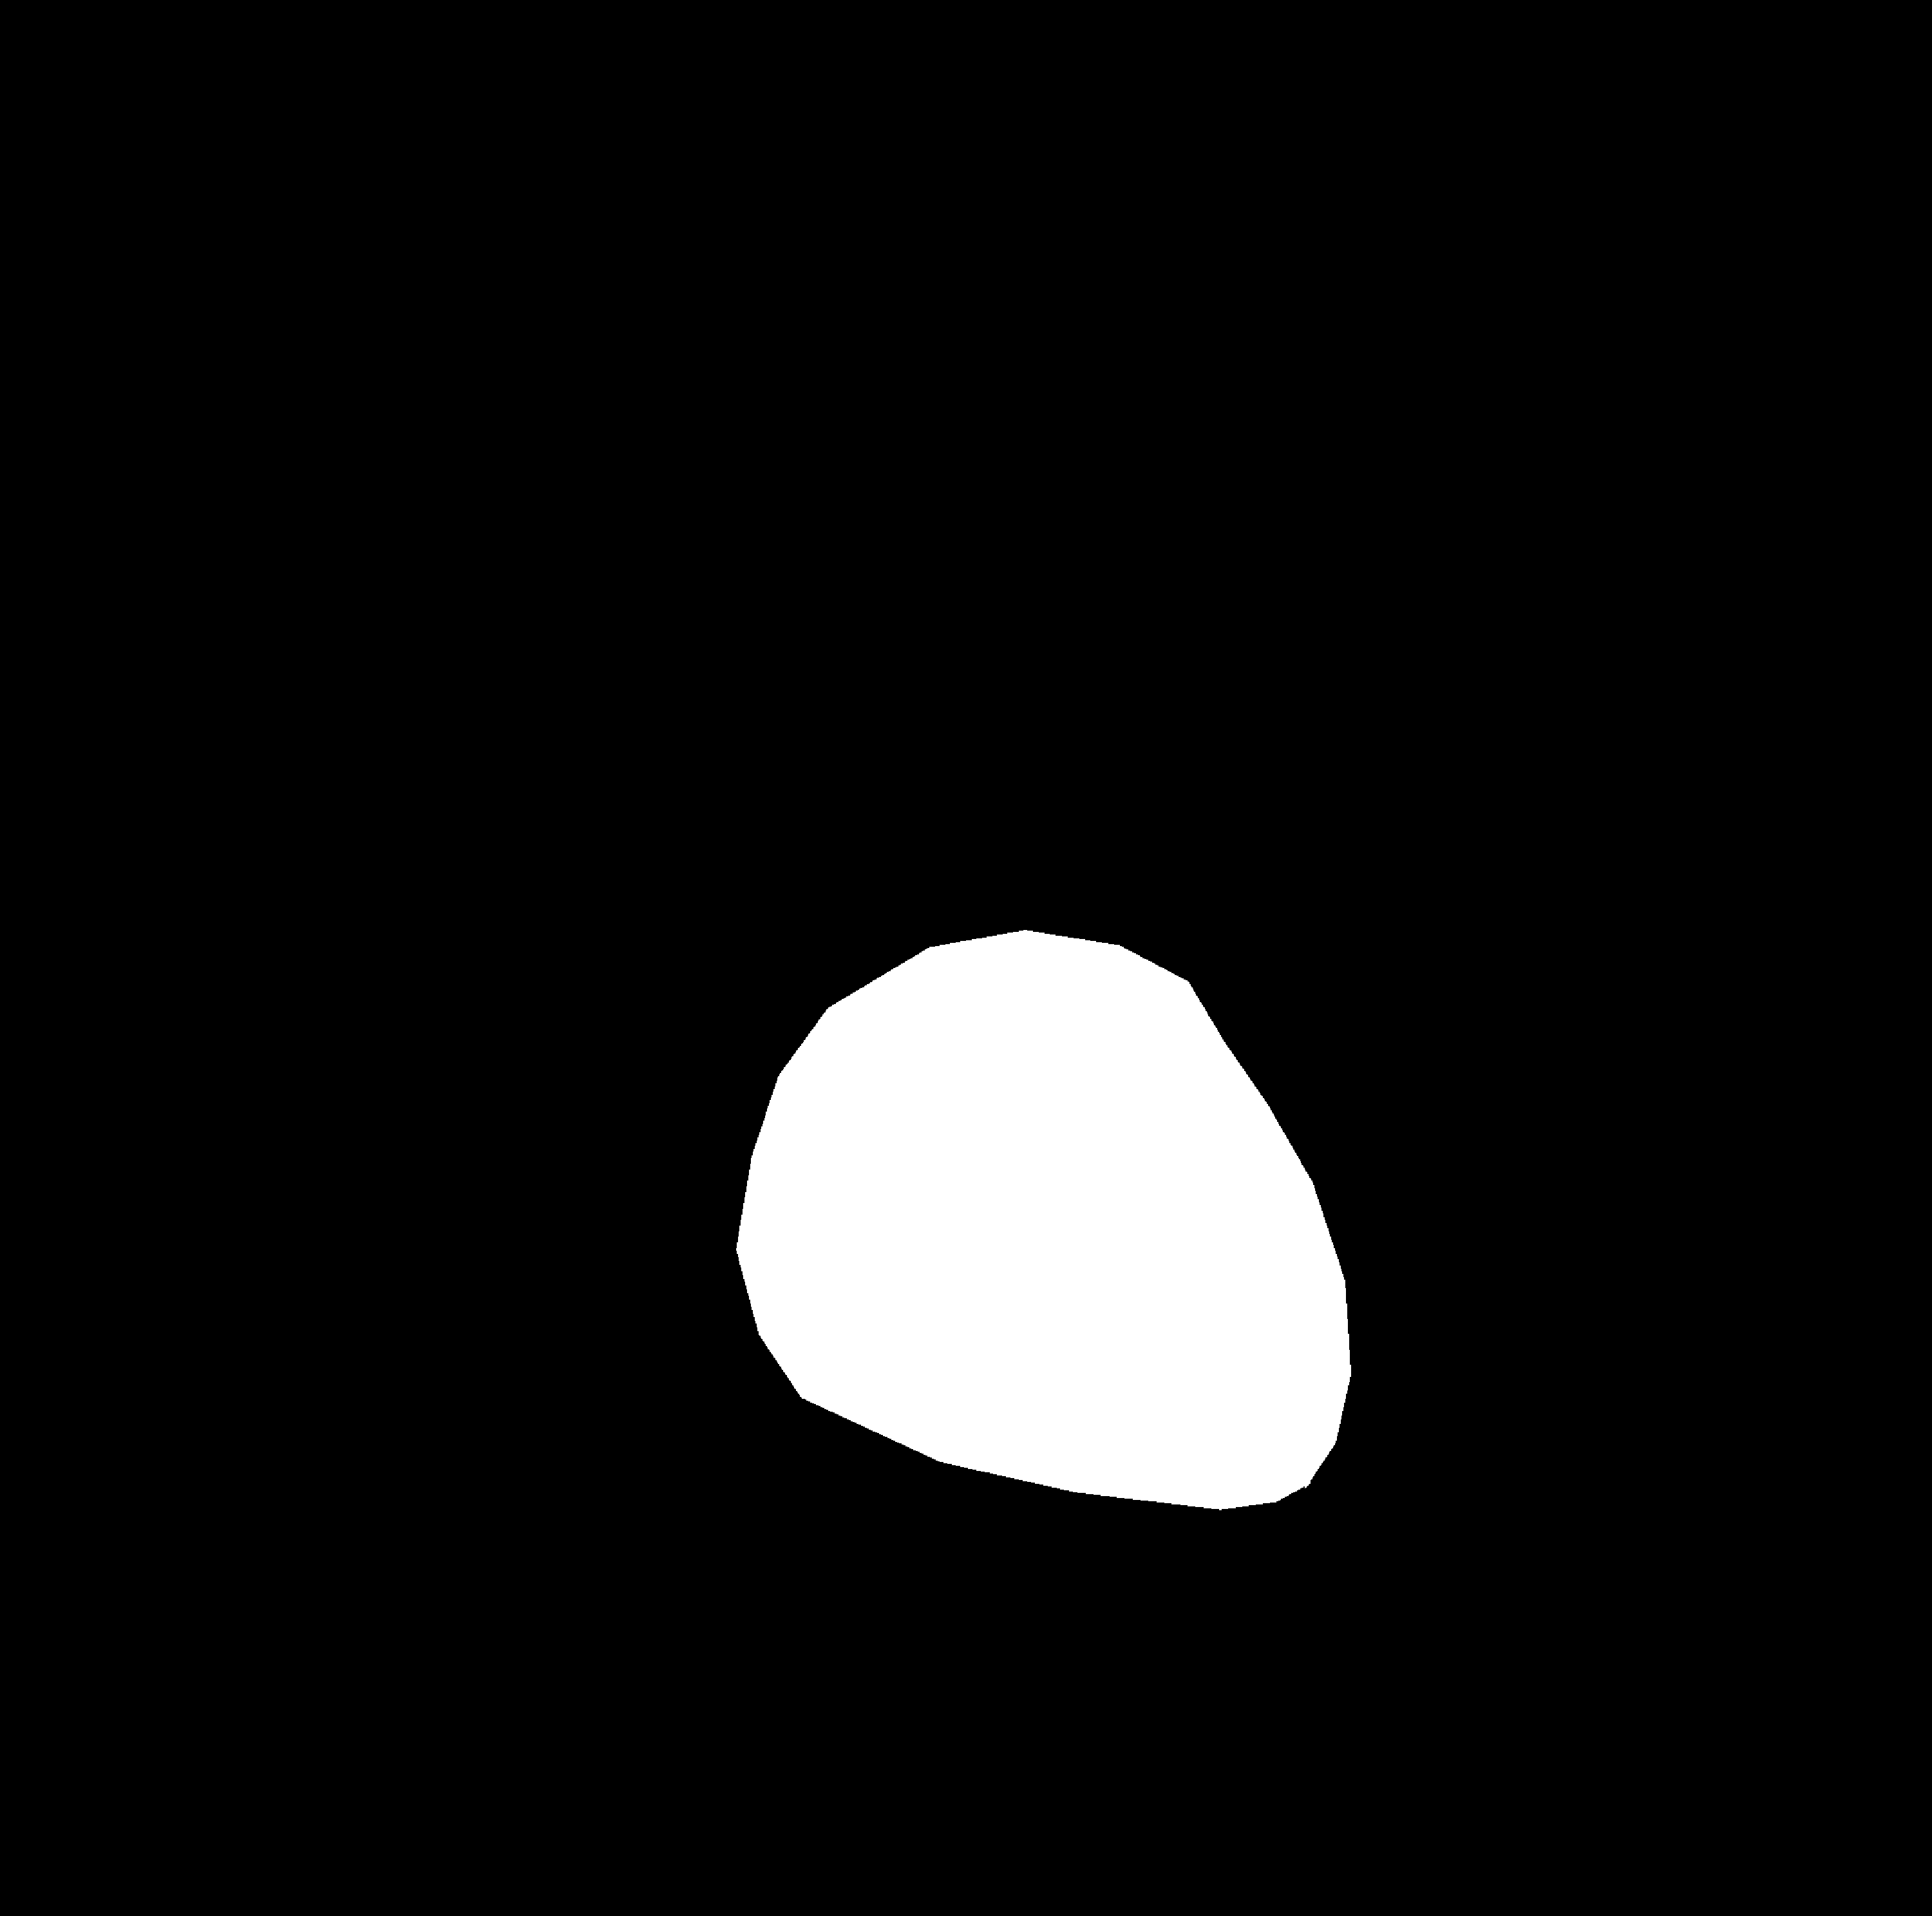heart: (765, 995, 1349, 1530)
left_lung: (369, 433, 904, 1469)
right_lung: (1044, 402, 1602, 1704)
